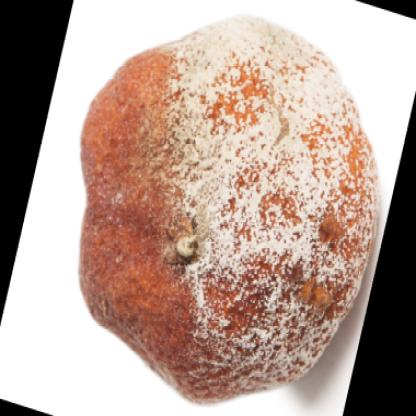rotten: (81, 17, 378, 403)
